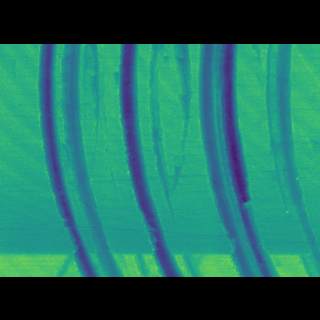Loch: (35, 75, 127, 246), (195, 75, 284, 245), (114, 75, 186, 246), (262, 74, 320, 244), (146, 74, 195, 197)
